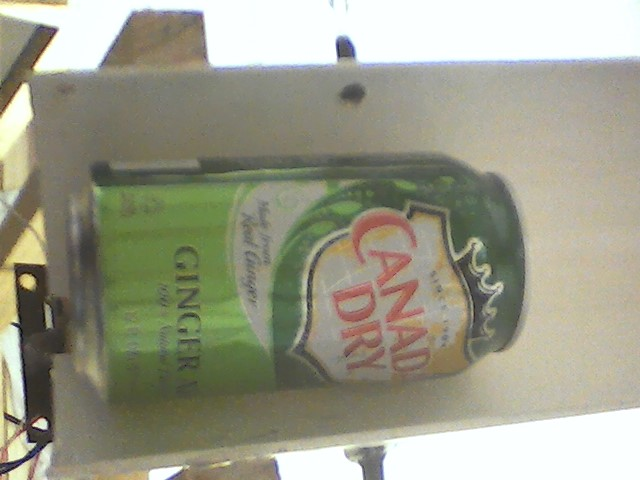lata: (59, 148, 540, 410)
